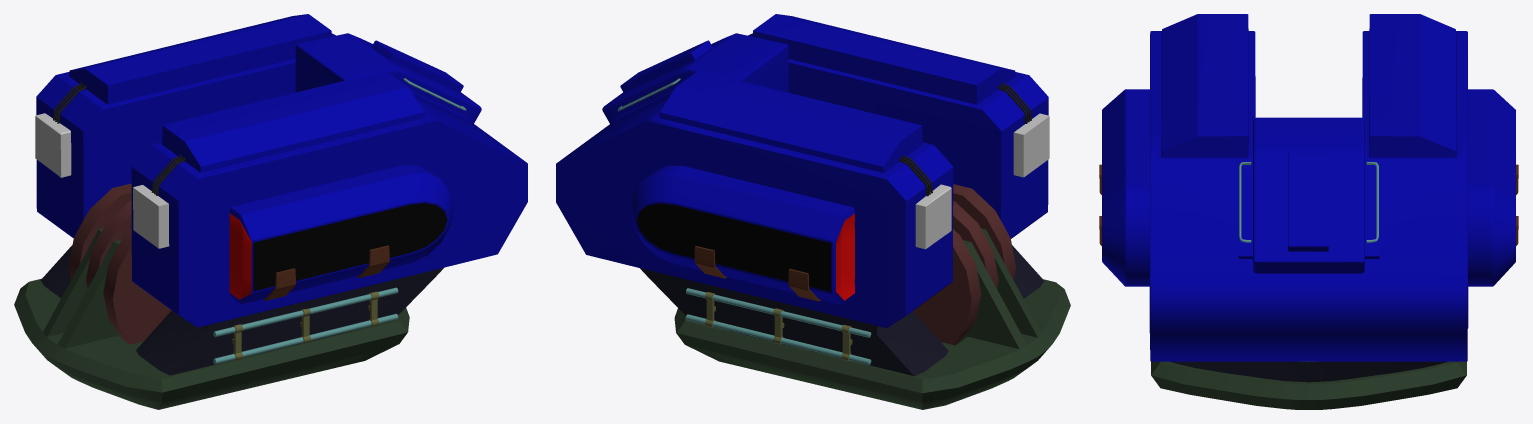
Rendered from LowArtilleryBody.fbx.
3 views of the same model, side by side, from view 1: azimuth 30°, elevation 25°; view 2: azimuth 150°, elevation 25°; view 3: azimuth 270°, elevation 25° (orthographic). The views are drawn at different scales.
Visible parts, largest first — view 1: LowArtilleryBody; view 2: LowArtilleryBody; view 3: LowArtilleryBody.
Boxes of the visible parts, left/top/right/bottom form: LowArtilleryBody: left=14, top=14, right=527, bottom=409; LowArtilleryBody: left=556, top=14, right=1070, bottom=409; LowArtilleryBody: left=1099, top=14, right=1518, bottom=409.
Bounding box in the file's own units: 227 × 177 × 134.
